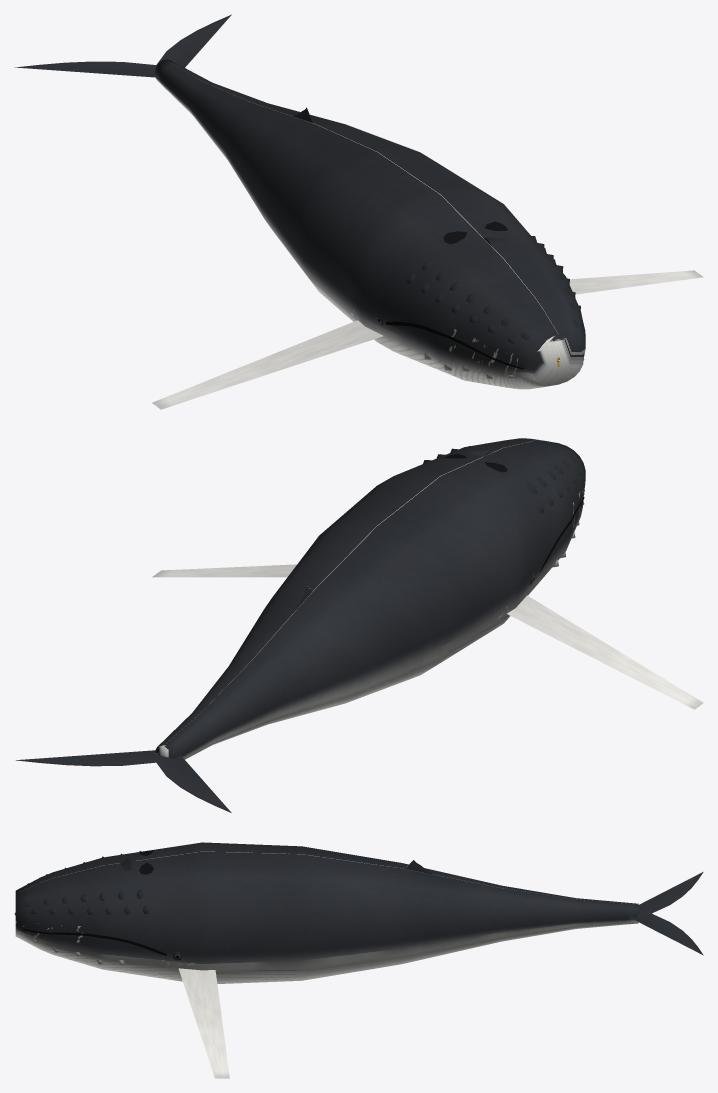
Rendered from reef_fish.glb.
The picture shows the model from 3 angles, top to bottom: view 1: azimuth 30°, elevation 25°; view 2: azimuth 150°, elevation 25°; view 3: azimuth 270°, elevation 25°; orthographic projection. The views are drawn at different scales.
Visible parts, largest first — view 1: whale; view 2: whale; view 3: whale.
Part boxes in pixels (x1=…): whale: x1=14, y1=14, x2=703, y2=409; whale: x1=15, y1=438, x2=703, y2=812; whale: x1=15, y1=842, x2=703, y2=1078.
Bounding box in the file's own units: 9.55 × 2.64 × 13.29.
15 materials, 15 textured.
